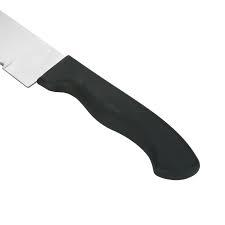Knife: (0, 0, 200, 180)
